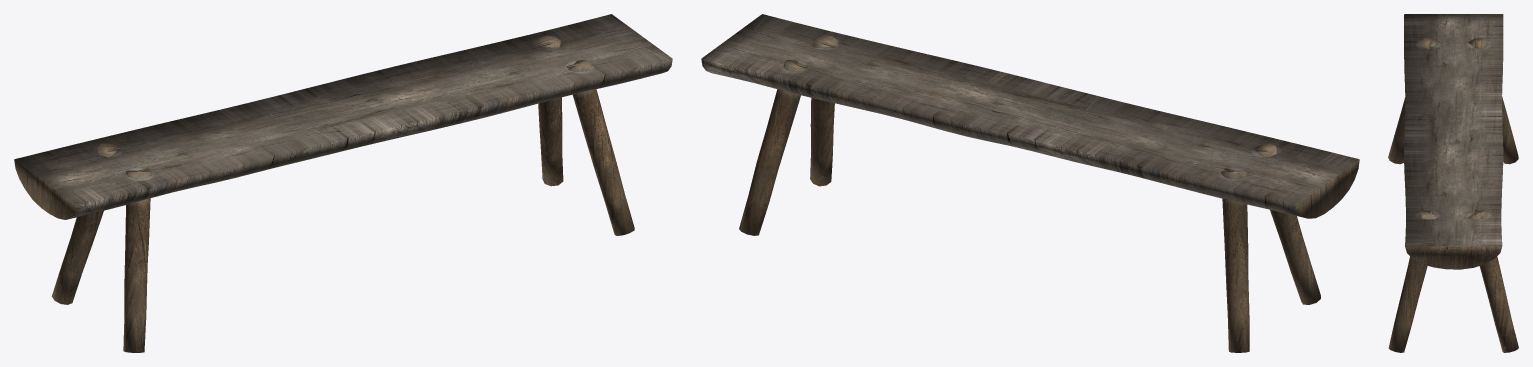
The model's file is bench_hewn.glb.
3 views of the same model, side by side, from view 1: azimuth 30°, elevation 25°; view 2: azimuth 150°, elevation 25°; view 3: azimuth 270°, elevation 25° (orthographic). The views are drawn at different scales.
Parts seen in each view (by area): view 1: bench_hewn; view 2: bench_hewn; view 3: bench_hewn.
Part boxes in pixels (x1,y1,x2,y2): bench_hewn: (14,14,672,352); bench_hewn: (701,14,1359,352); bench_hewn: (1388,14,1518,352).
Bounding box in the file's own units: 1.8 × 0.4722 × 0.4285.
1 material, 1 textured.
